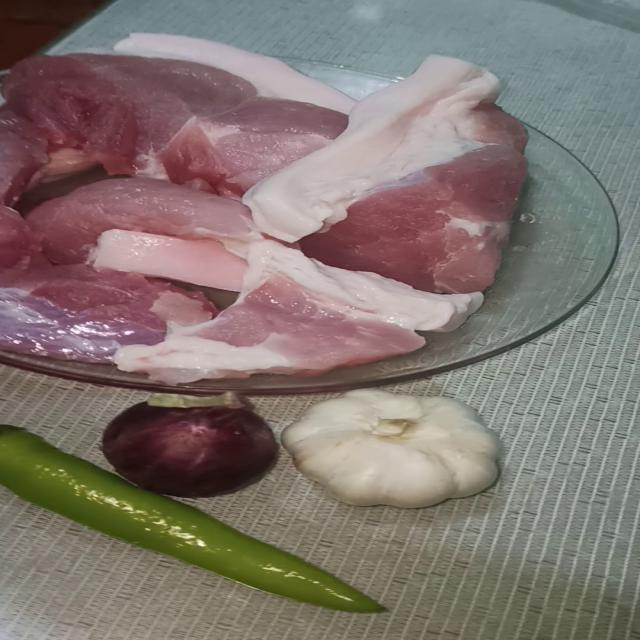chili_pepper: (0, 396, 403, 640)
garlic: (282, 387, 528, 503)
onion: (92, 375, 275, 508)
pork: (255, 87, 584, 288), (0, 27, 329, 170), (148, 257, 474, 378), (0, 165, 279, 250), (0, 245, 204, 355)
